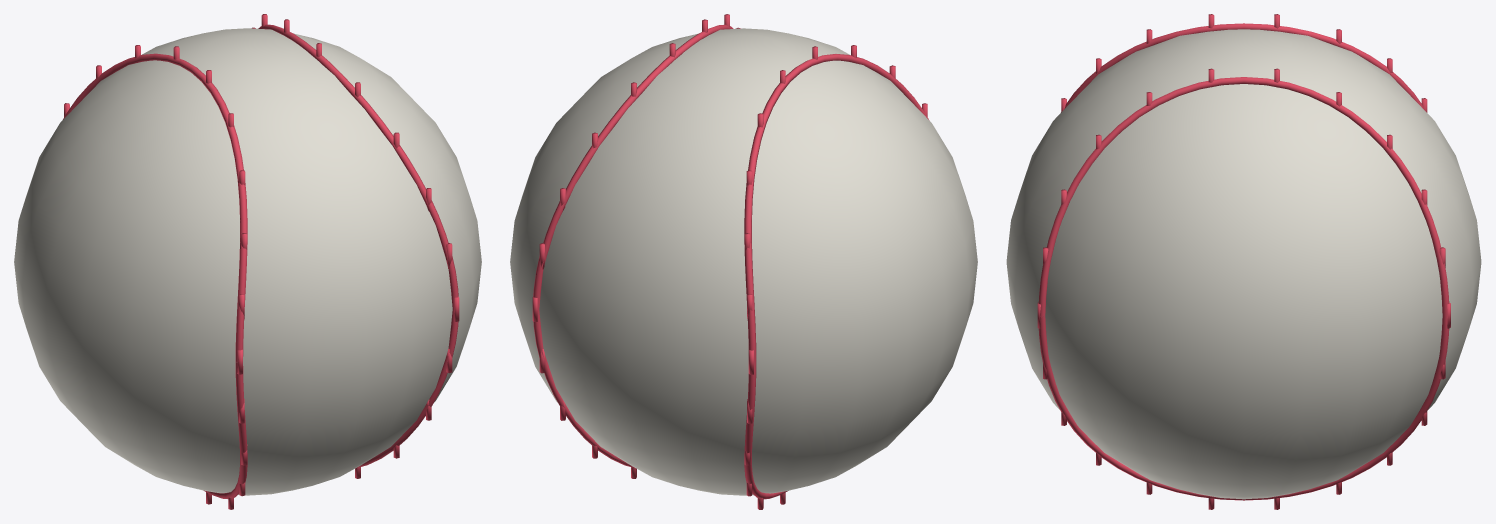
File: baseball.glb
The picture shows the model from 3 angles, left to right: view 1: azimuth 30°, elevation 25°; view 2: azimuth 150°, elevation 25°; view 3: azimuth 270°, elevation 25°; orthographic projection.
Visible parts, largest first — view 1: baseball_white, baseball_seam; view 2: baseball_white, baseball_seam; view 3: baseball_white, baseball_seam.
Part boxes in pixels (left/top/right/bottom): baseball_white: left=14, top=28, right=481, bottom=495; baseball_seam: left=63, top=14, right=459, bottom=509; baseball_white: left=510, top=28, right=977, bottom=495; baseball_seam: left=532, top=14, right=929, bottom=509; baseball_white: left=1006, top=29, right=1481, bottom=499; baseball_seam: left=1037, top=14, right=1450, bottom=509.
Bounding box in the file's own units: 0.6 × 0.6116 × 0.6.
